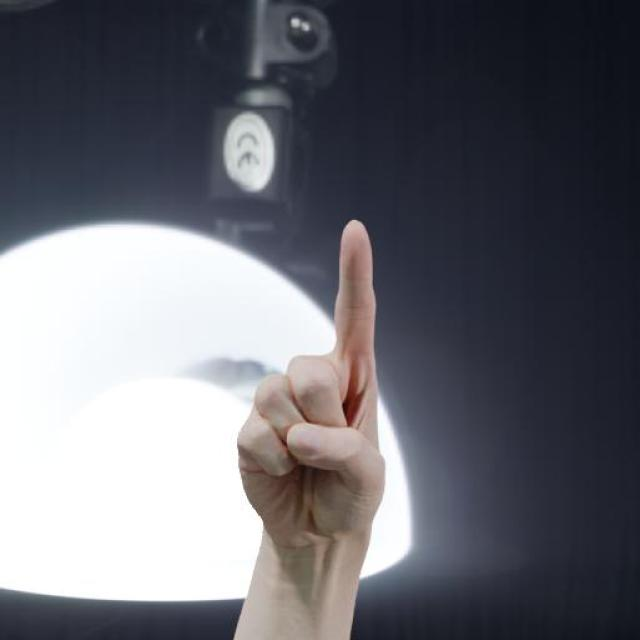Z: (230, 213, 386, 553)
